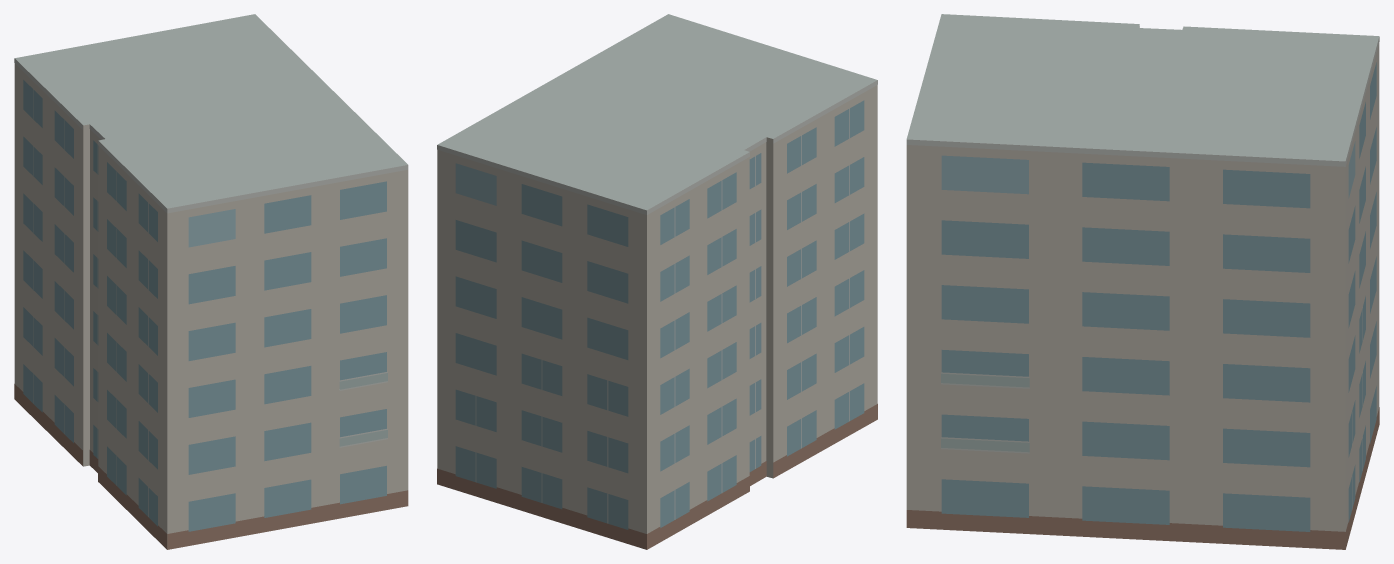
Rendered from survey-upis-32565705.glb.
3 renders of one model, left to right at view 1: azimuth 30°, elevation 25°; view 2: azimuth 150°, elevation 25°; view 3: azimuth 270°, elevation 25°, orthographic. The views are drawn at different scales.
Parts seen in each view (by area): view 1: survey-upis-32565705.tmp; view 2: survey-upis-32565705.tmp; view 3: survey-upis-32565705.tmp.
Part boxes in pixels (left/top/right/bottom): survey-upis-32565705.tmp: left=14, top=14, right=408, bottom=549; survey-upis-32565705.tmp: left=437, top=14, right=877, bottom=549; survey-upis-32565705.tmp: left=906, top=14, right=1379, bottom=549.
Bounding box in the file's own units: 14.17 × 17.4 × 19.21.
